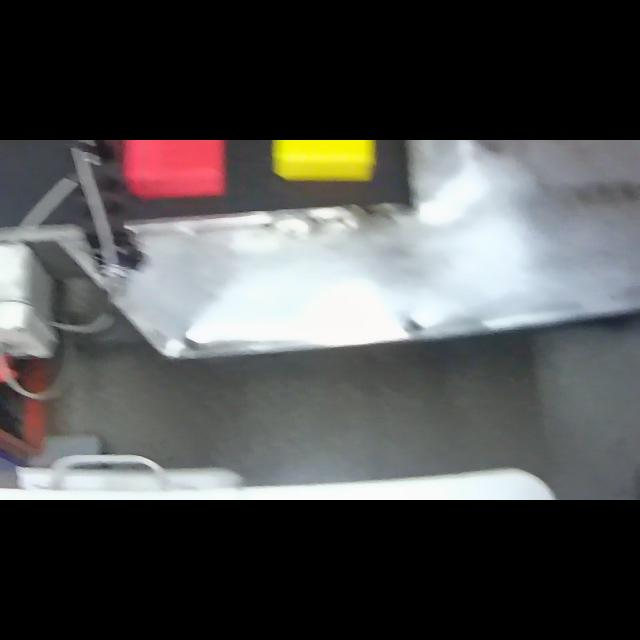redBox: (119, 140, 229, 204)
yellowBox: (272, 140, 383, 186)
